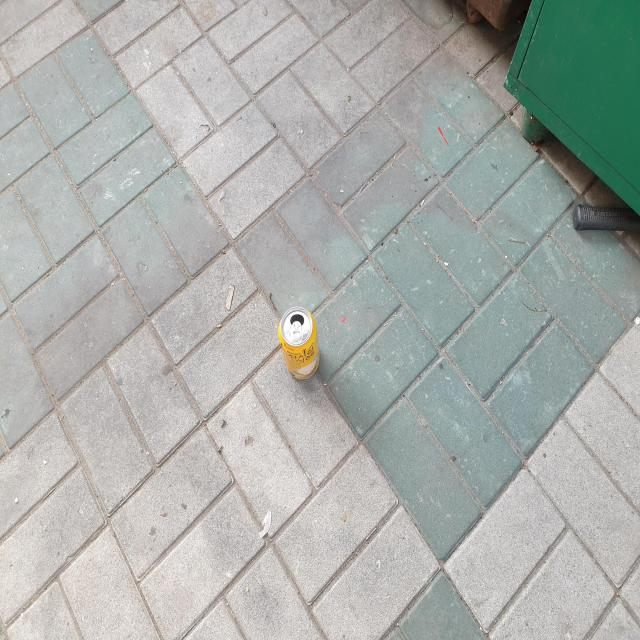can: (279, 307, 320, 380)
